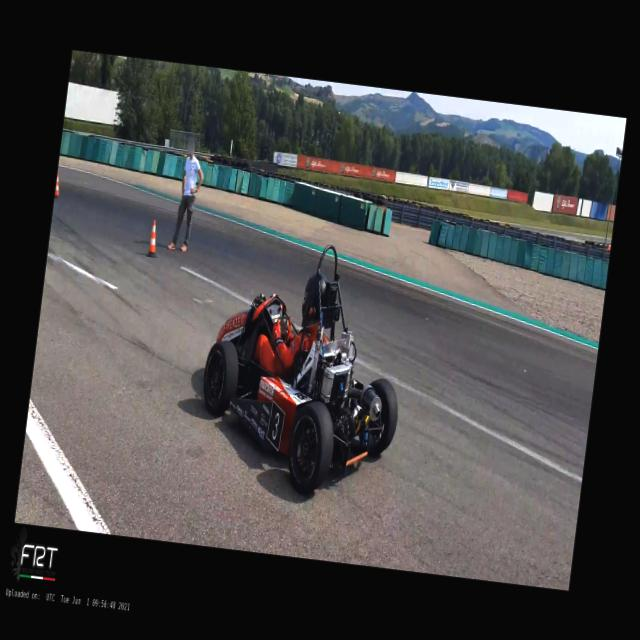large_orange_cone: (144, 219, 160, 258), (54, 173, 61, 197)
